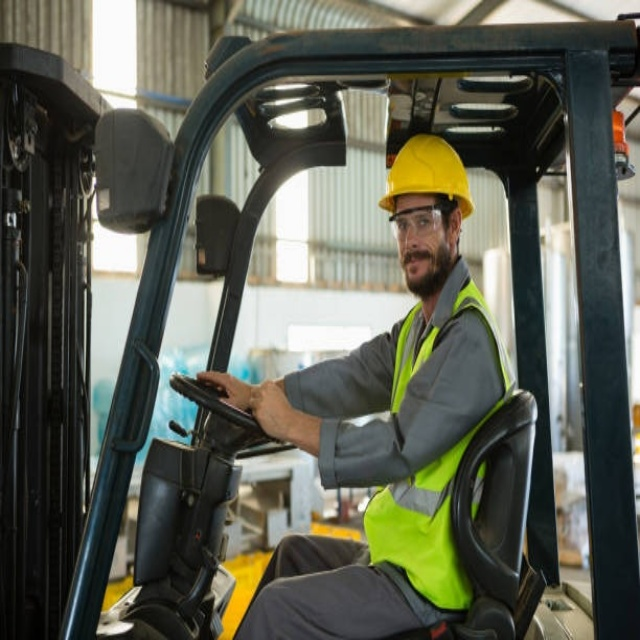Gafas: (388, 207, 445, 235)
Sin_guantes: (251, 369, 297, 442), (196, 368, 258, 420)
Sin_mascara: (401, 248, 430, 282)
